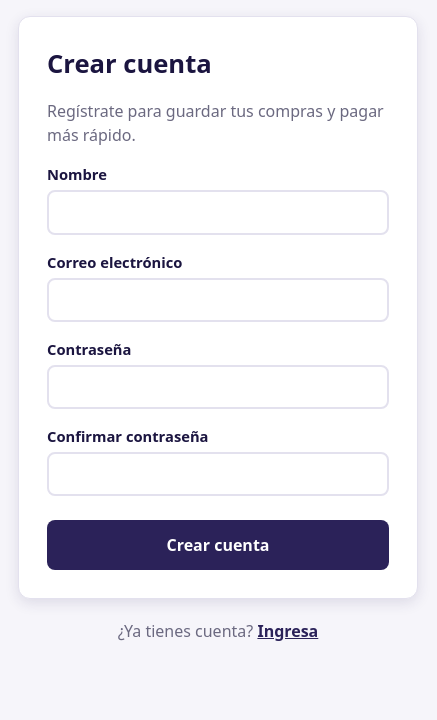
Test: Register › rechaza un correo que ya tiene cuenta
In the field labelled "Nombre": (218, 212) [47,190,389,235], type "Ana López"
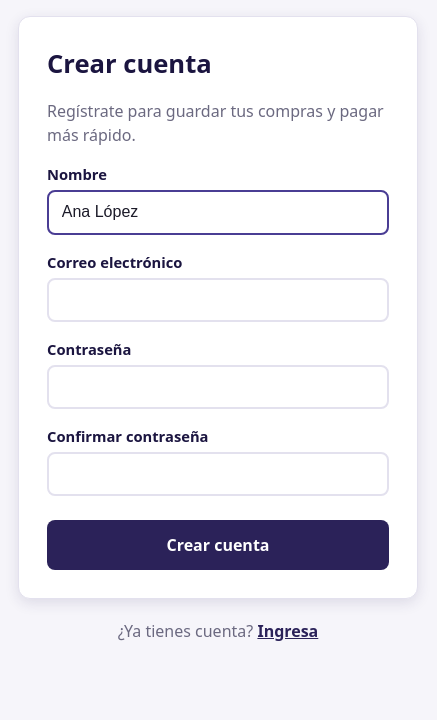
In the field labelled "Correo electrónico": (218, 300) [47,278,389,322], type "ana@correo.com"
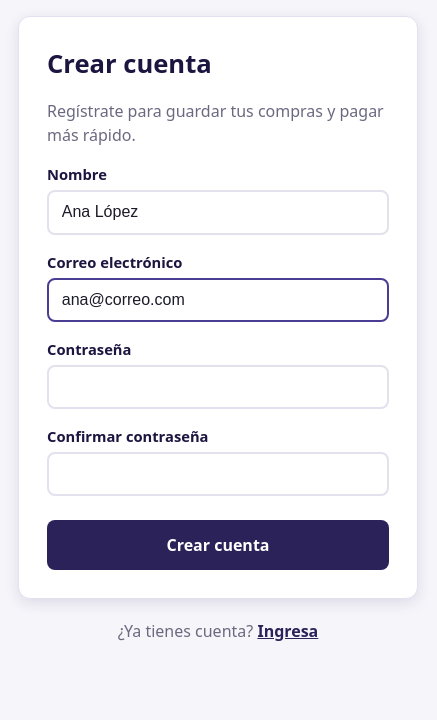
In the password field labelled "Contraseña": (218, 387) [47,365,389,409], type "secreto"
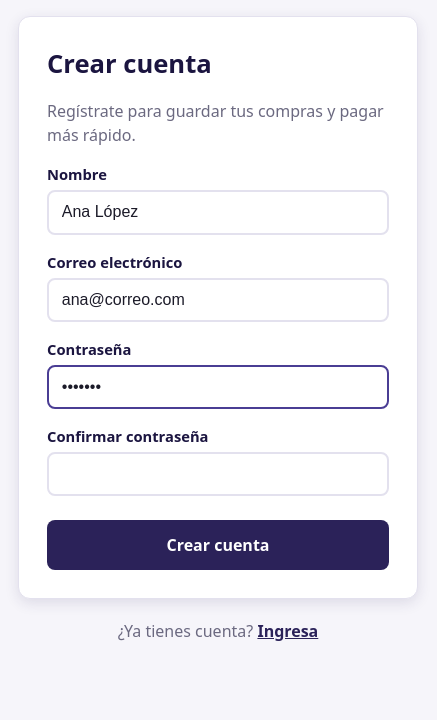
In the password field labelled "Confirmar contraseña": (218, 474) [47,452,389,496], type "secreto"
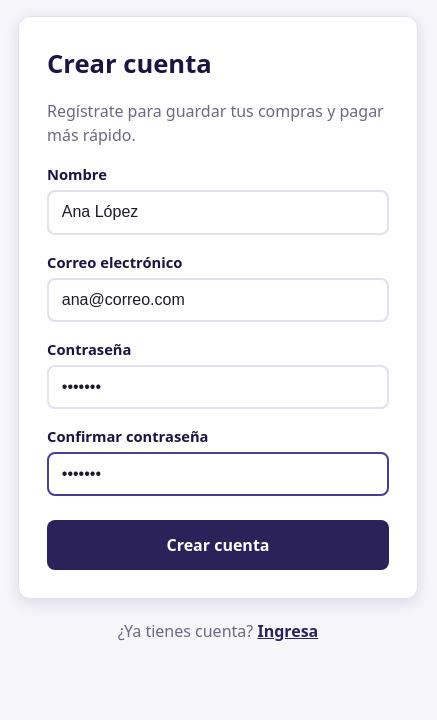
Click the button "Crear cuenta": (218, 545) [47,520,389,570]
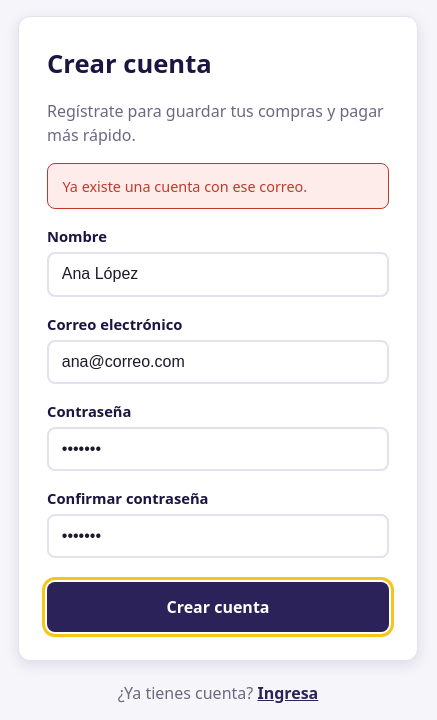
Expected: the text "Ya existe una cuenta con ese correo." is shown, [47,163,389,209]
